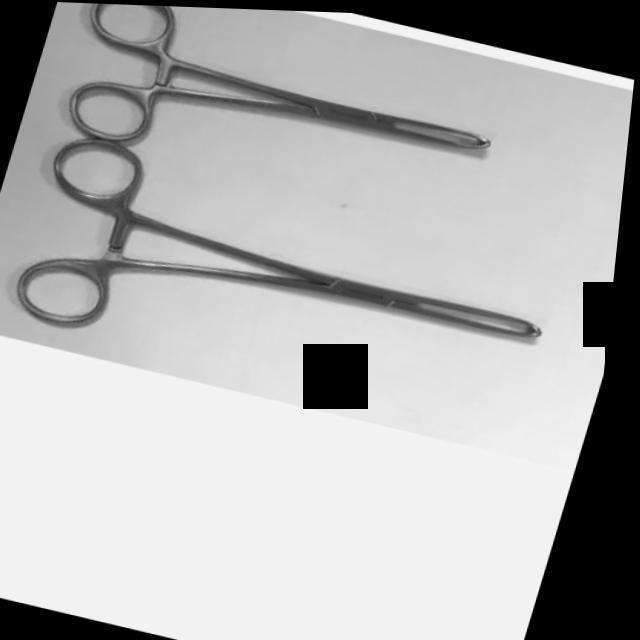Allis Forceps: (0, 123, 585, 433), (47, 2, 523, 219)
